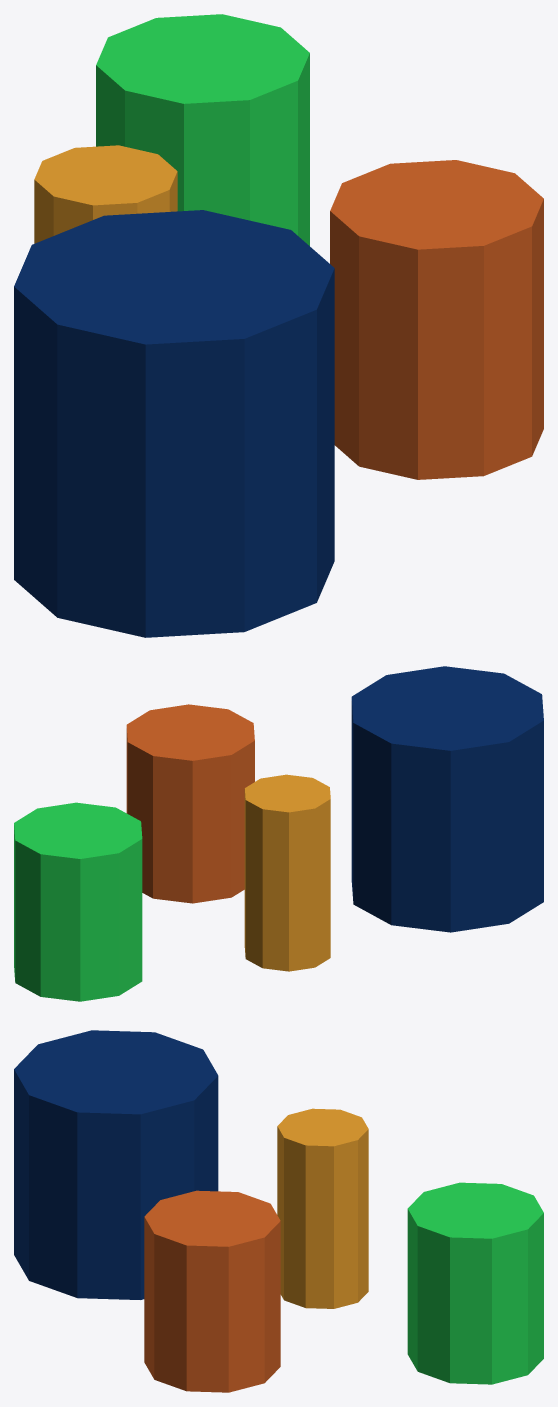
File: Cans.glb
3 renders of one model, top to bottom at view 1: azimuth 30°, elevation 25°; view 2: azimuth 150°, elevation 25°; view 3: azimuth 270°, elevation 25°, orthographic. The views are drawn at different scales.
Parts seen in each view (by area): view 1: Can 1; view 2: Can 1; view 3: Can 1.
Boxes of the visible parts, x1,y1,x2,y2 form: Can 1: (14, 14, 543, 637); Can 1: (14, 666, 543, 1001); Can 1: (14, 1030, 543, 1392).
Bounding box in the file's own units: 0.3239 × 0.1629 × 0.4149.
4 materials, 2 textured.
